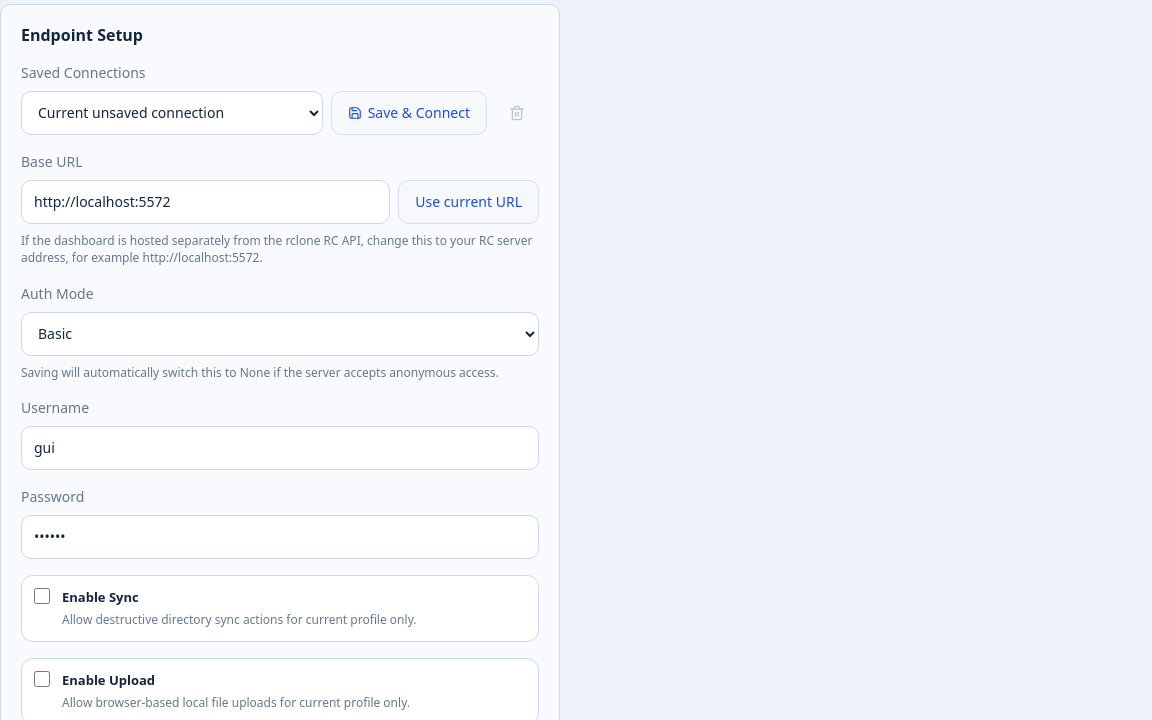
Test case: ConnectPage › disables saving while connection validation is pending
Click the button "Save & Connect": point(409, 113) [331, 91, 487, 135]
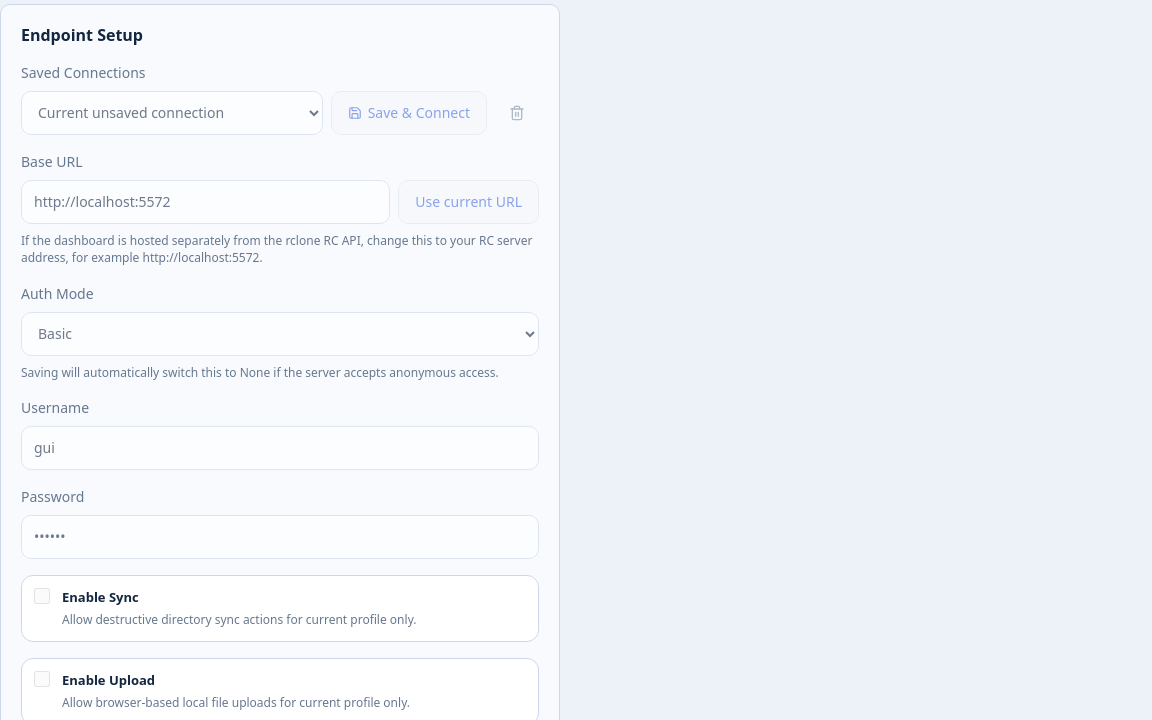
Check: the button "Save & Connect" is disabled
Click the button "Save & Connect": point(409, 113) [331, 91, 487, 135]
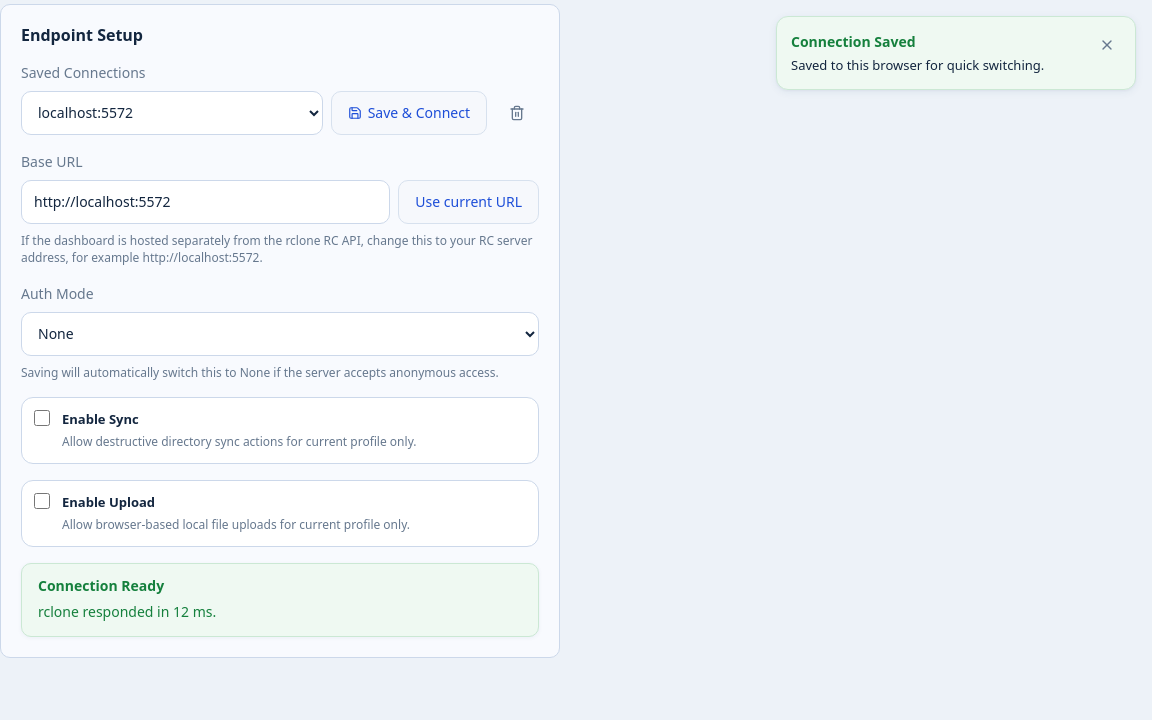
Check: the heading "Connection Ready" is shown, box [38, 576, 164, 595]
